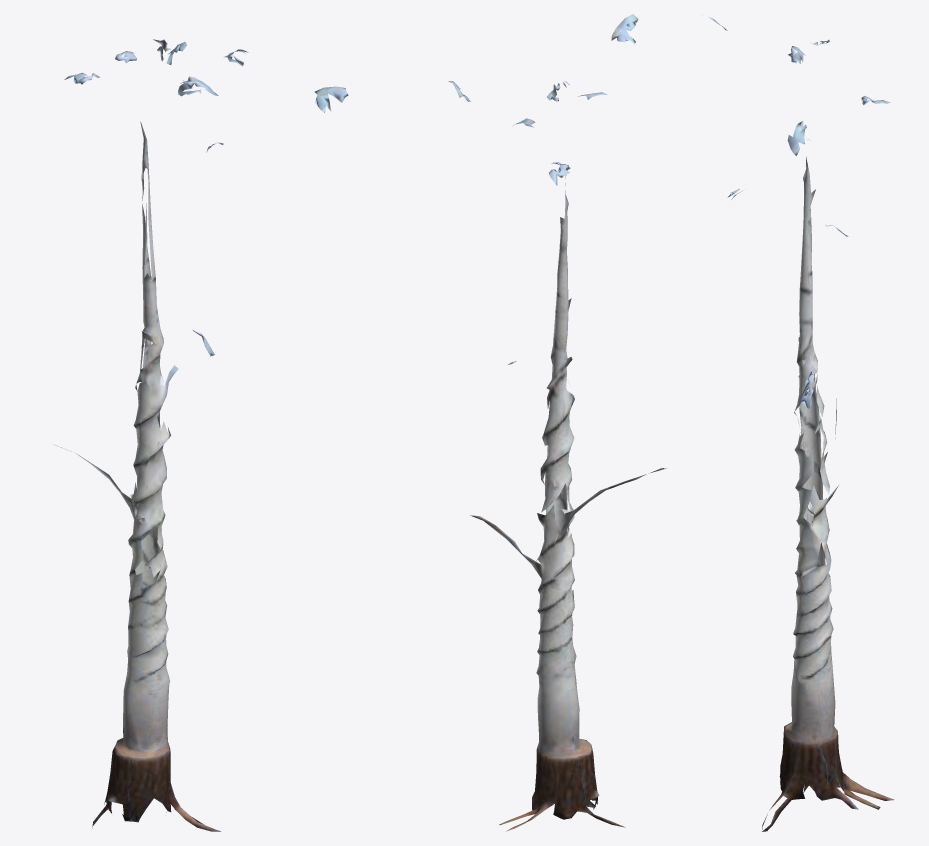
The model's file is betula_gelida_toco.glb.
The picture shows the model from 3 angles, left to right: view 1: azimuth 30°, elevation 25°; view 2: azimuth 150°, elevation 25°; view 3: azimuth 270°, elevation 25°; orthographic projection. The views are drawn at different scales.
Parts seen in each view (by area): view 1: geometry_0.1368; view 2: geometry_0.1368; view 3: geometry_0.1368.
Part boxes in pixels (x1,y1,x2,y2): geometry_0.1368: (54,39,348,831); geometry_0.1368: (448,14,666,831); geometry_0.1368: (709,17,894,831).
Size of the model in its own units: 0.3465 by 0.968 by 0.243.
Materials: 1 (1 with a texture image).
